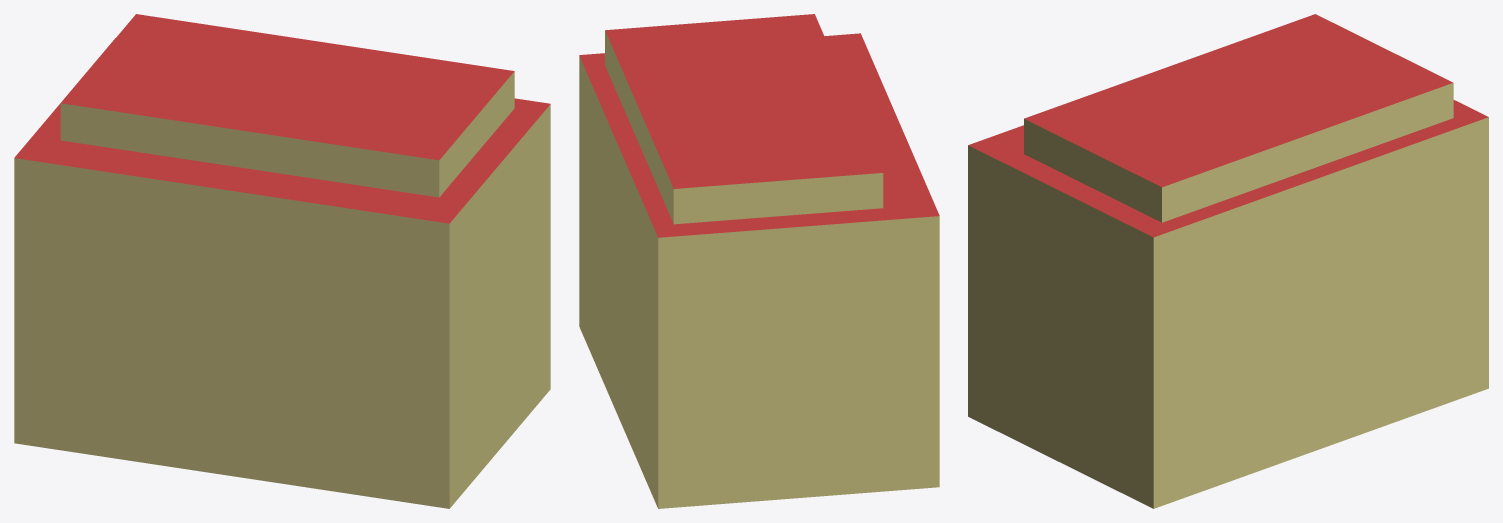
3 views of the same model, side by side, from view 1: azimuth 30°, elevation 25°; view 2: azimuth 150°, elevation 25°; view 3: azimuth 270°, elevation 25° (orthographic). The views are drawn at different scales.
Parts seen in each view (by area): view 1: group_6, group_4, group_5, group_3; view 2: group_6, group_4, group_3, group_5; view 3: group_6, group_4, group_5, group_3.
Part boxes in pixels (x1=…): group_6: x1=14, y1=104, x2=550, y2=508; group_4: x1=61, y1=14, x2=514, y2=160; group_5: x1=60, y1=71, x2=514, y2=197; group_3: x1=14, y1=38, x2=550, y2=223; group_6: x1=579, y1=56, x2=939, y2=508; group_4: x1=605, y1=14, x2=883, y2=188; group_3: x1=579, y1=33, x2=939, y2=237; group_5: x1=605, y1=30, x2=883, y2=224; group_6: x1=968, y1=117, x2=1488, y2=508; group_4: x1=1024, y1=14, x2=1452, y2=187; group_5: x1=1024, y1=83, x2=1453, y2=222; group_3: x1=968, y1=100, x2=1488, y2=237.
Bounding box in the file's own units: 23.58 × 24.41 × 15.87.
